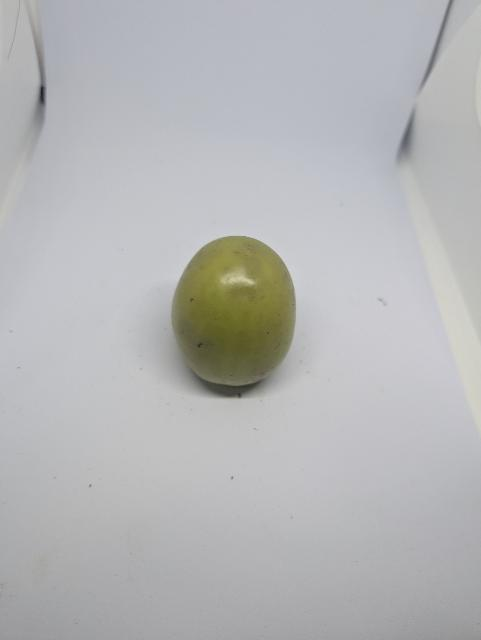green: (169, 233, 299, 390)
